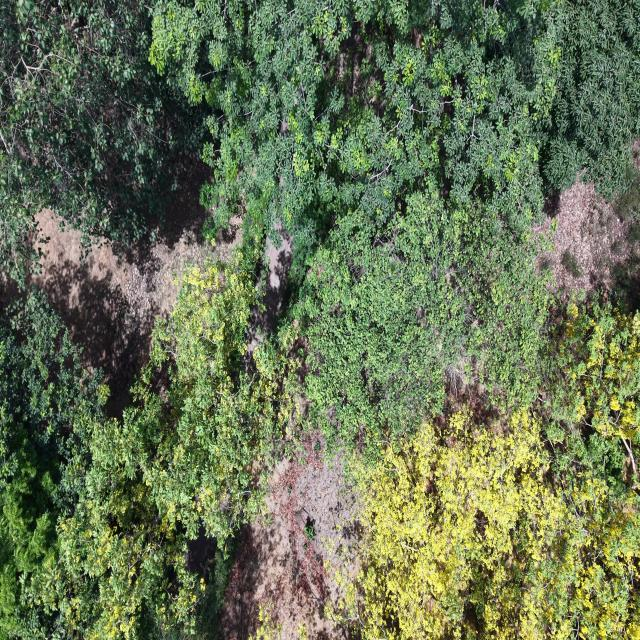DRY_AREA: (27, 176, 241, 414), (28, 182, 241, 415), (28, 180, 239, 414), (30, 181, 239, 414), (28, 180, 239, 404), (218, 433, 358, 639), (220, 433, 358, 639), (221, 448, 357, 639), (538, 139, 639, 308), (538, 180, 639, 308), (543, 182, 628, 291), (247, 231, 291, 354), (261, 230, 291, 332)
VEGETATION_TREE: (0, 0, 639, 639), (150, 0, 637, 441), (150, 2, 559, 442), (150, 0, 639, 260), (0, 251, 295, 638), (150, 0, 560, 277), (40, 253, 292, 638), (356, 305, 639, 639), (292, 192, 550, 447), (359, 410, 639, 639), (0, 0, 201, 282), (360, 409, 565, 639), (0, 292, 107, 638), (536, 302, 639, 638), (542, 0, 639, 197), (548, 304, 639, 490)
